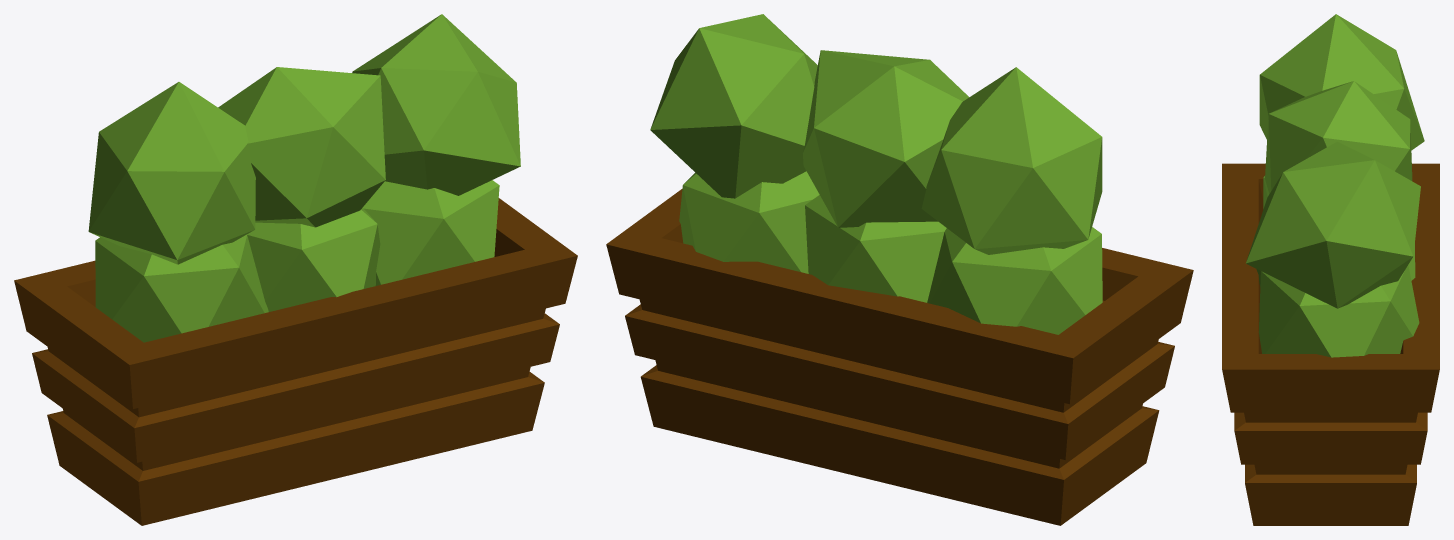
The model's file is Flower5.fbx.
3 views of the same model, side by side, from view 1: azimuth 30°, elevation 25°; view 2: azimuth 150°, elevation 25°; view 3: azimuth 270°, elevation 25° (orthographic). The views are drawn at different scales.
Visible parts, largest first — view 1: Cube.026; view 2: Cube.026; view 3: Cube.026.
Boxes of the visible parts, x1=… form: Cube.026: x1=14, y1=14, x2=577, y2=525; Cube.026: x1=606, y1=14, x2=1193, y2=525; Cube.026: x1=1222, y1=14, x2=1439, y2=525.
Size of the model in its own units: 79.7 by 66.68 by 35.62.
